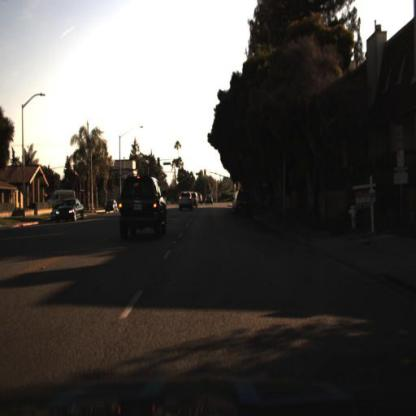car: (117, 171, 169, 241), (230, 187, 257, 219), (56, 198, 86, 225), (49, 189, 77, 204), (103, 196, 120, 218), (179, 190, 193, 213), (204, 192, 216, 205), (205, 193, 216, 206)
